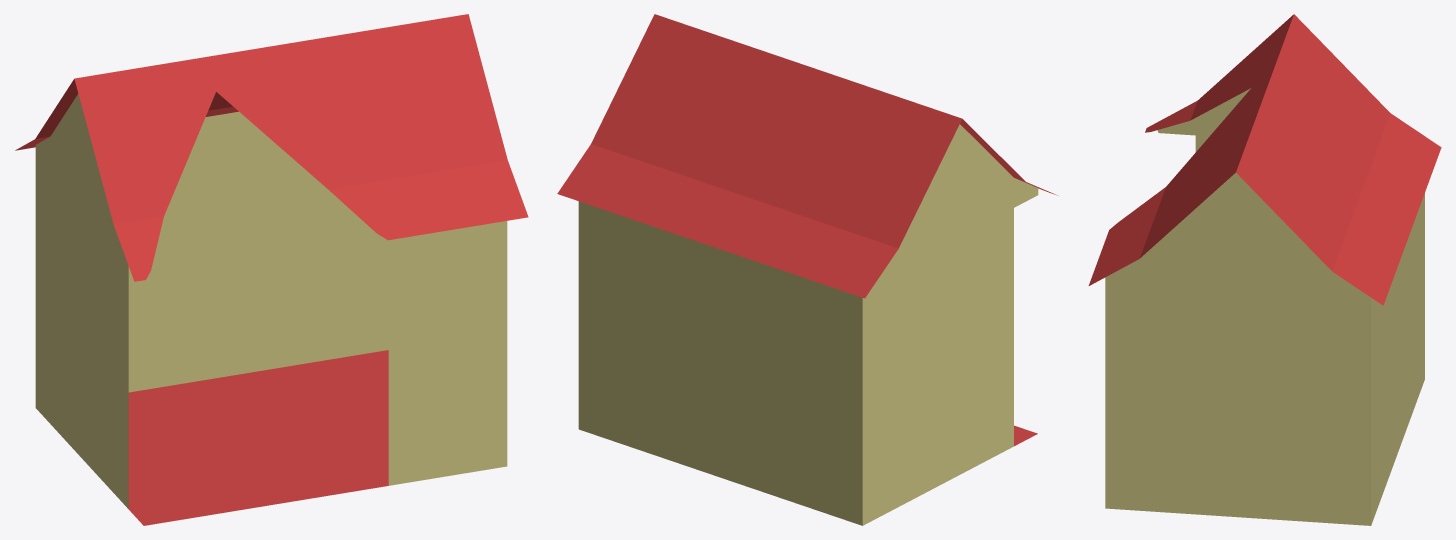
3 renders of one model, left to right at view 1: azimuth 30°, elevation 25°; view 2: azimuth 150°, elevation 25°; view 3: azimuth 270°, elevation 25°, orthographic. The views are drawn at different scales.
Size of the model in its own units: 14.32 by 12.02 by 13.18.
